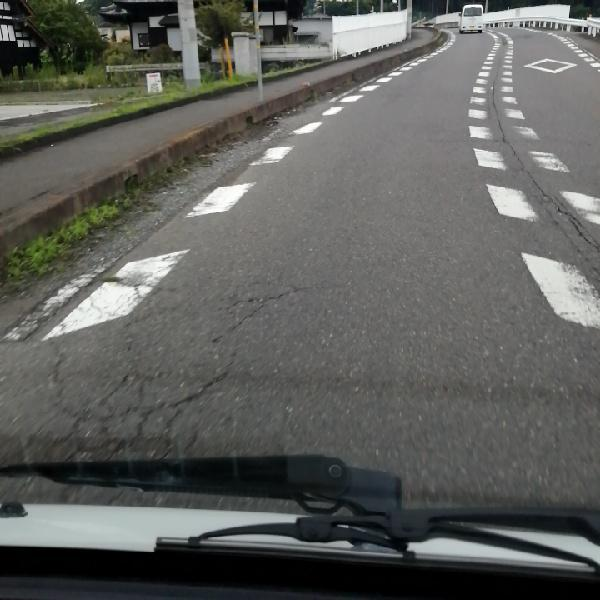D20: (0, 265, 336, 473)
